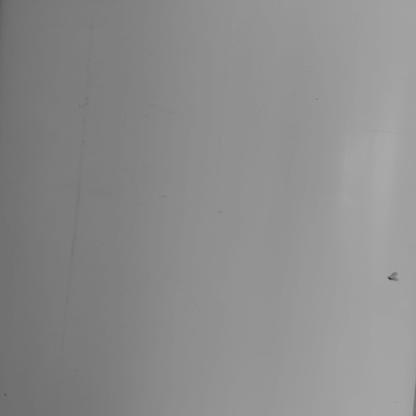kongdong: (379, 265, 405, 292)
